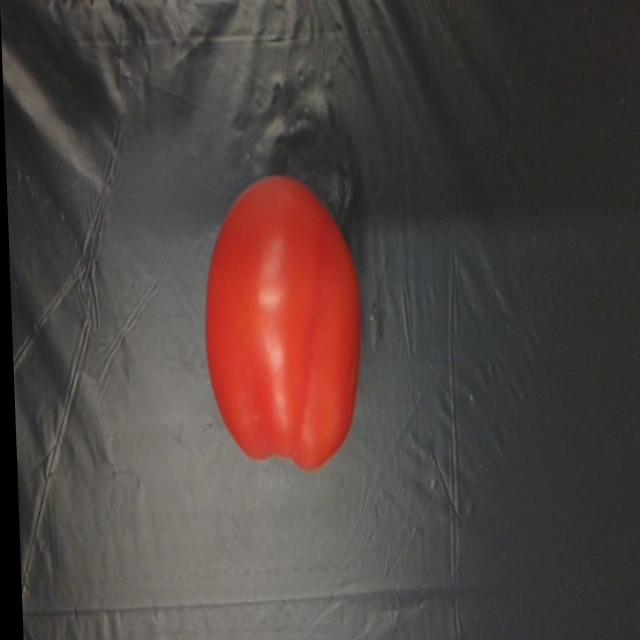kirmizi: (199, 172, 362, 472)
